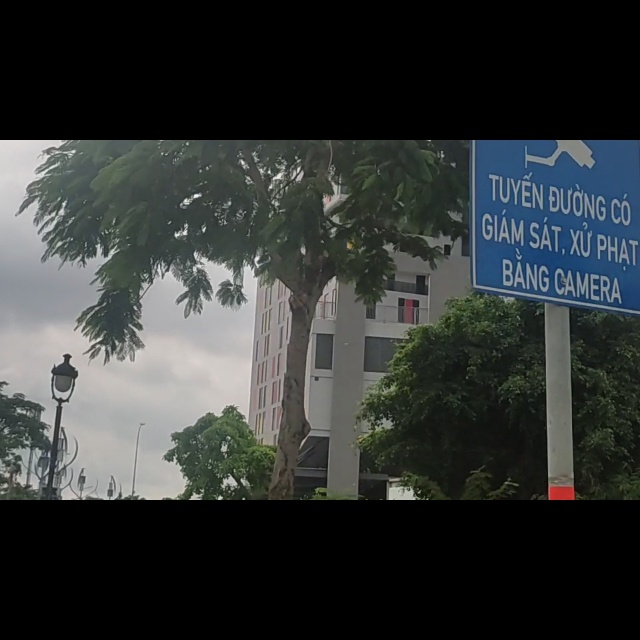bien_nguy_hiem: (473, 1, 639, 305)
